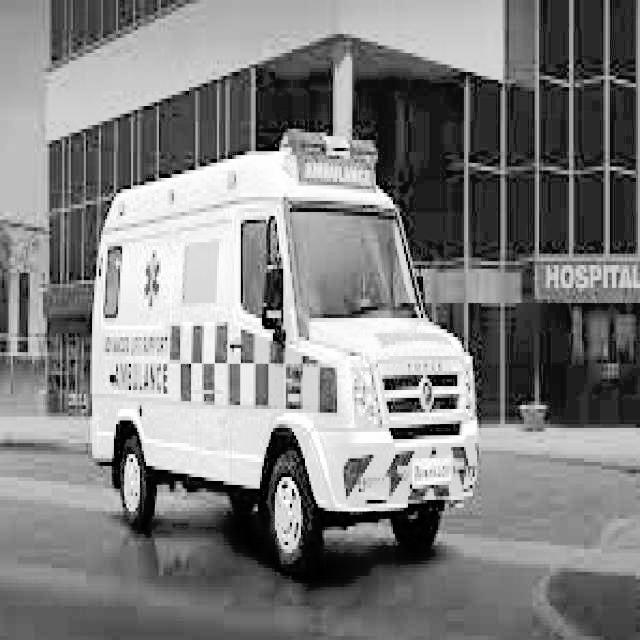LCV: (262, 129, 478, 506)
